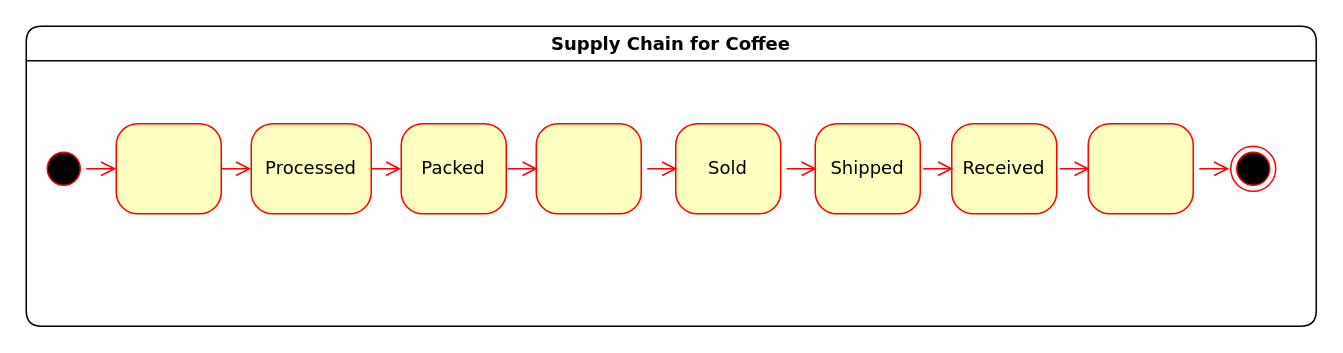
The diagram is 1343 pixels wide and 353 high, and some of its shapes have lost their labels. Each missing label, with the centre of its shape:
ForSale: point (588, 168)
Harvested: point (168, 168)
Purchased: point (1140, 168)
